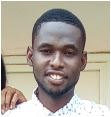without_facemask: (36, 58, 82, 95)
